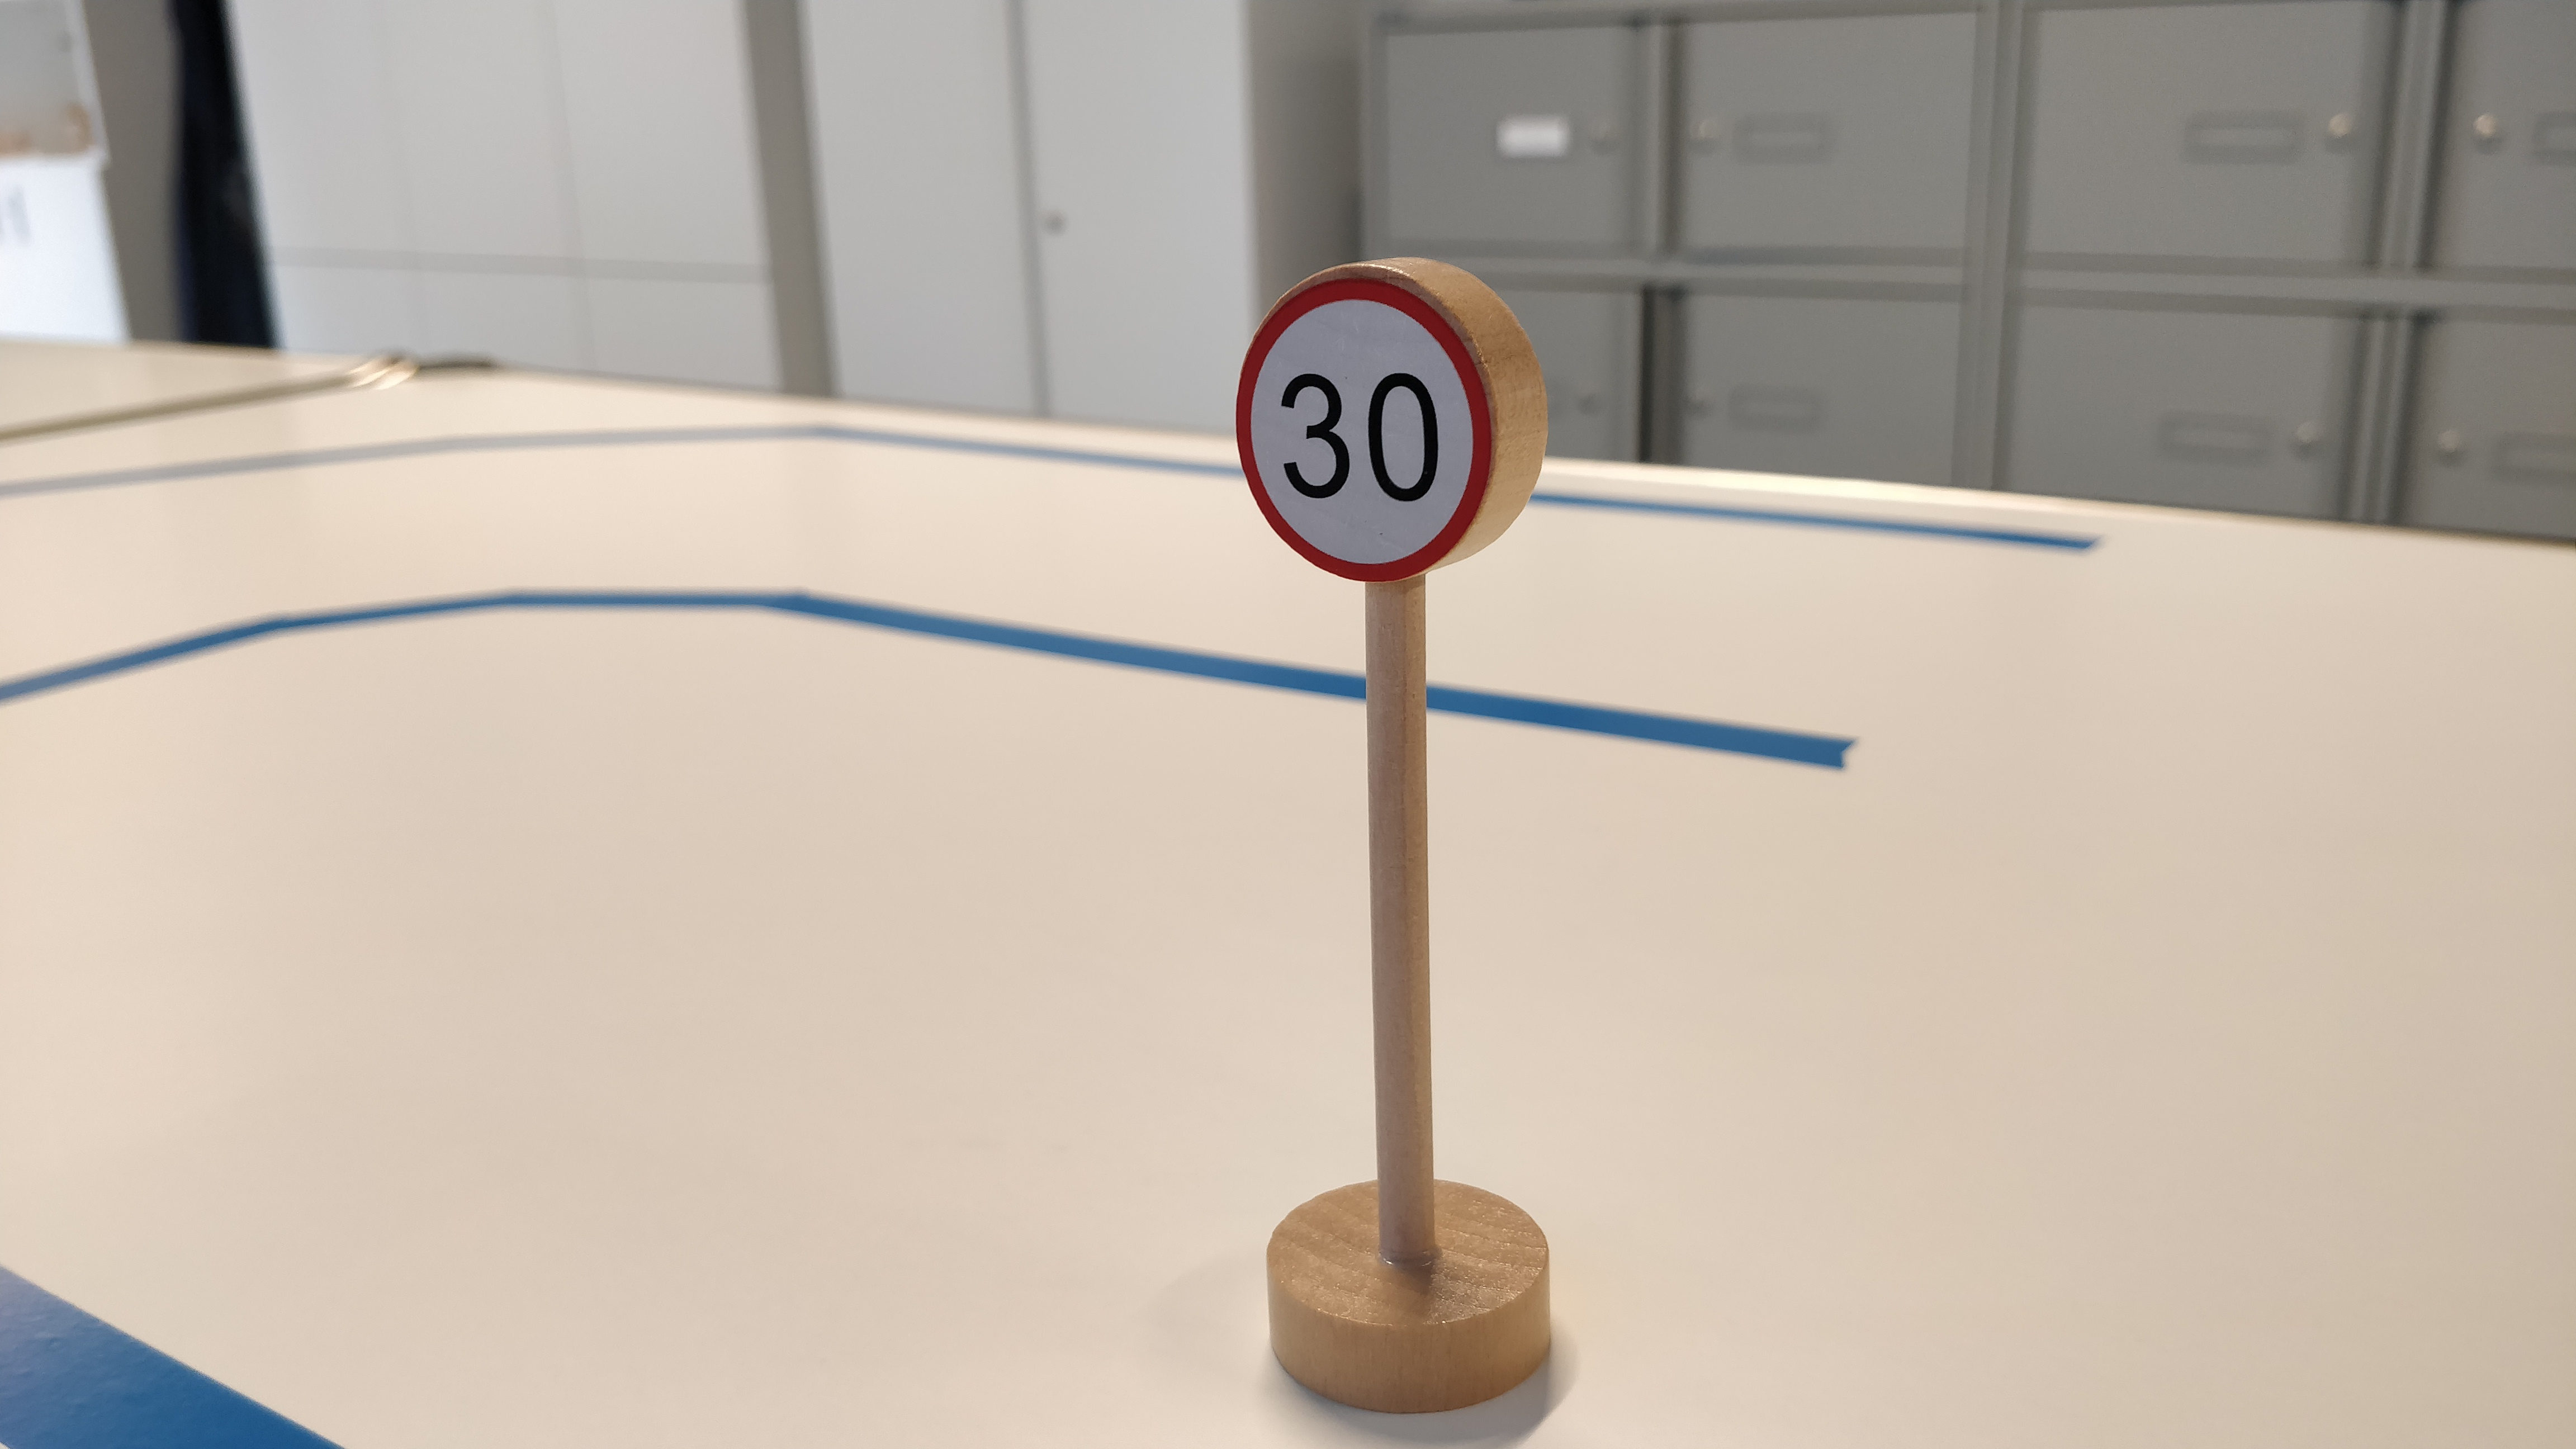Speed Limit 30: (1233, 248, 1553, 586)
